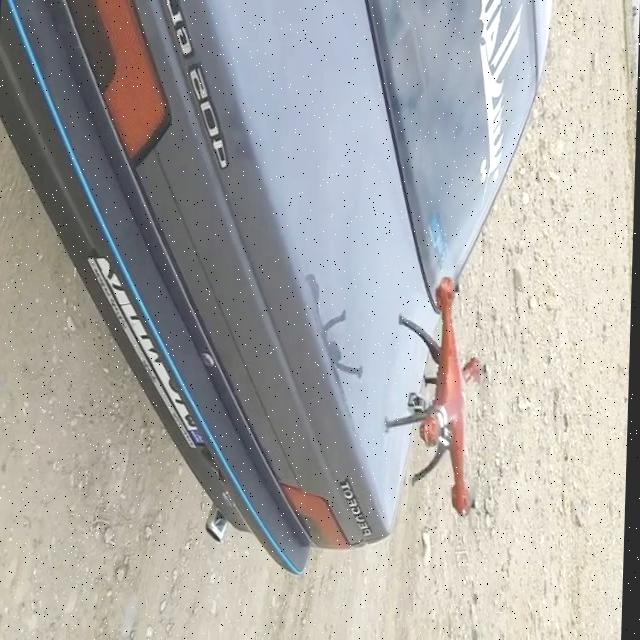drone: (385, 255, 498, 541)
